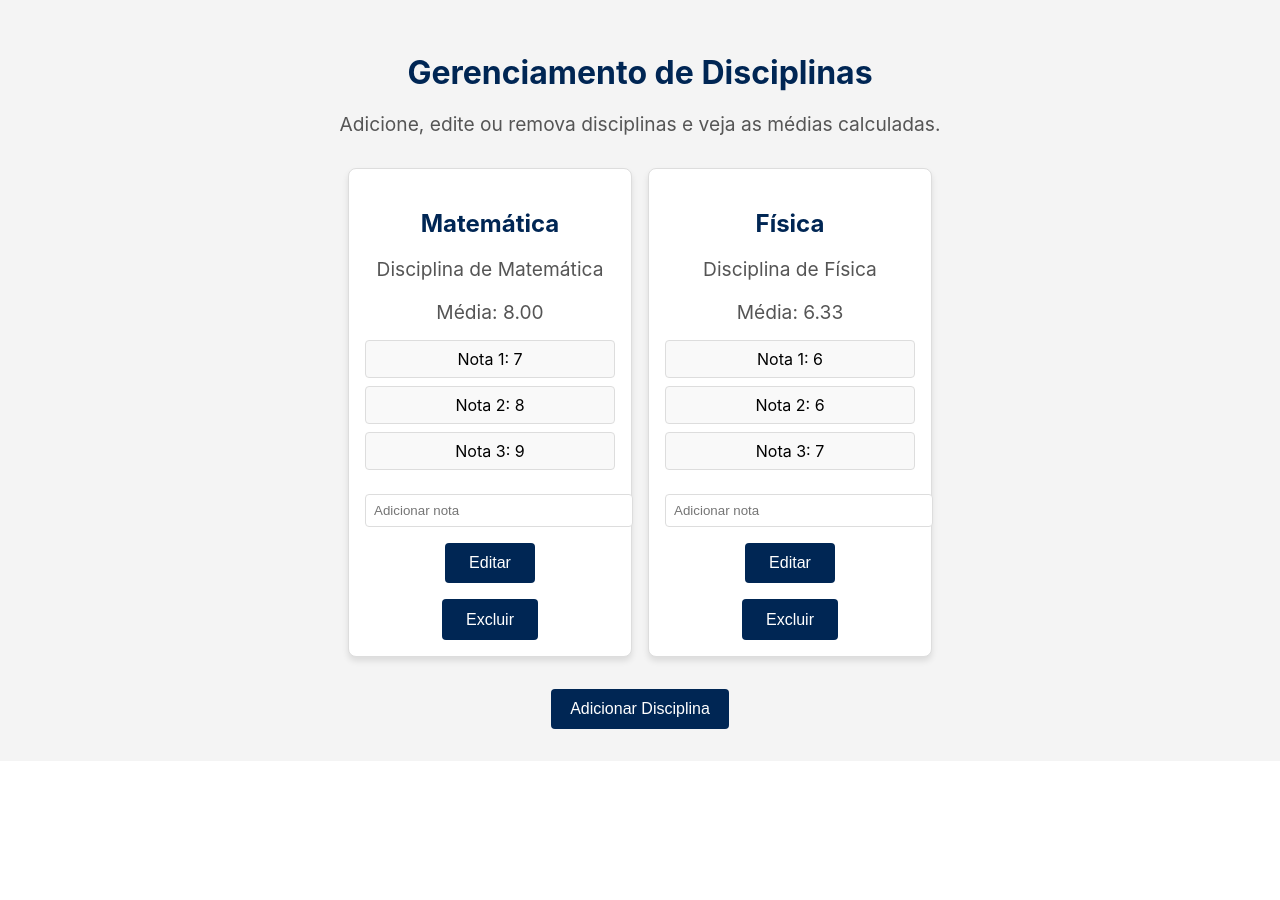
Test: Edita uma disciplina corretamente
The image size is (1280, 900).
Click the button "Editar" below "8.00". click: (490, 563)
box: [445,543,535,583]
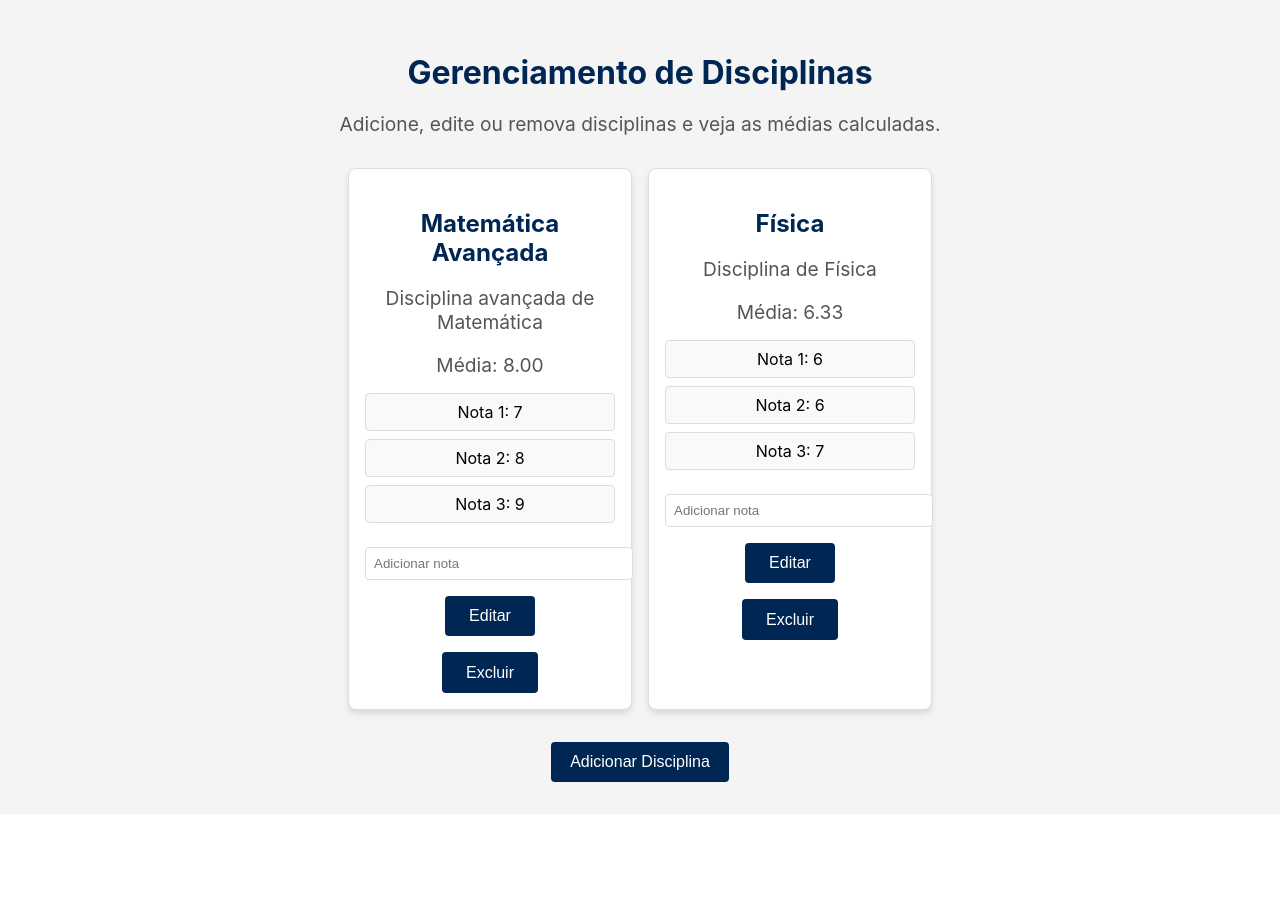
Expected: the text "Disciplina avançada de Matemática" is shown, [386,286,594,334]
